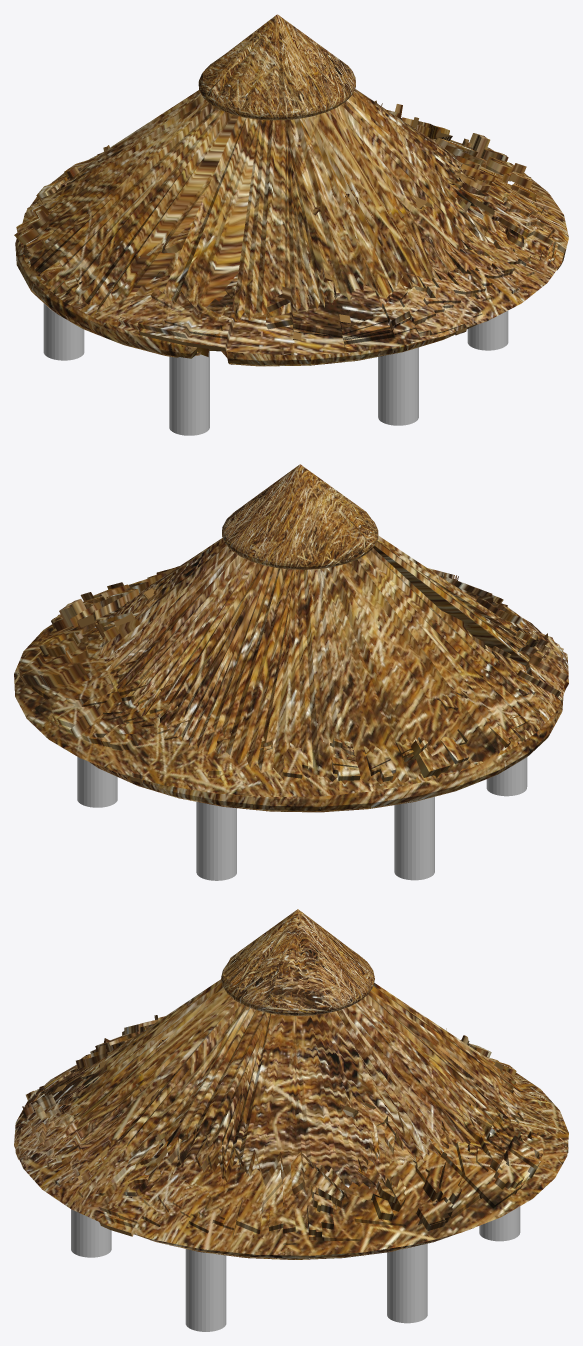
The model's file is Kiosko.obj.
3 views of the same model, one above another, from view 1: azimuth 30°, elevation 25°; view 2: azimuth 150°, elevation 25°; view 3: azimuth 270°, elevation 25° (orthographic).
Visible parts, largest first — view 1: Cono, Cono.002, Cilindro.004; view 2: Cono, Cono.002, Cilindro.004; view 3: Cono, Cono.002, Cilindro.004.
Part boxes in pixels (x1,y1,x2,y2): Cono: [15, 14, 505, 366]; Cono.002: [14, 100, 568, 355]; Cilindro.004: [43, 303, 508, 435]; Cono: [88, 464, 563, 812]; Cono.002: [14, 566, 568, 796]; Cilindro.004: [77, 757, 527, 880]; Cono: [67, 909, 525, 1259]; Cono.002: [14, 1015, 568, 1255]; Cilindro.004: [71, 1206, 520, 1331].
Bounding box in the file's own units: 27.2 × 18.04 × 27.16.
Materials: 3 (3 with a texture image).
